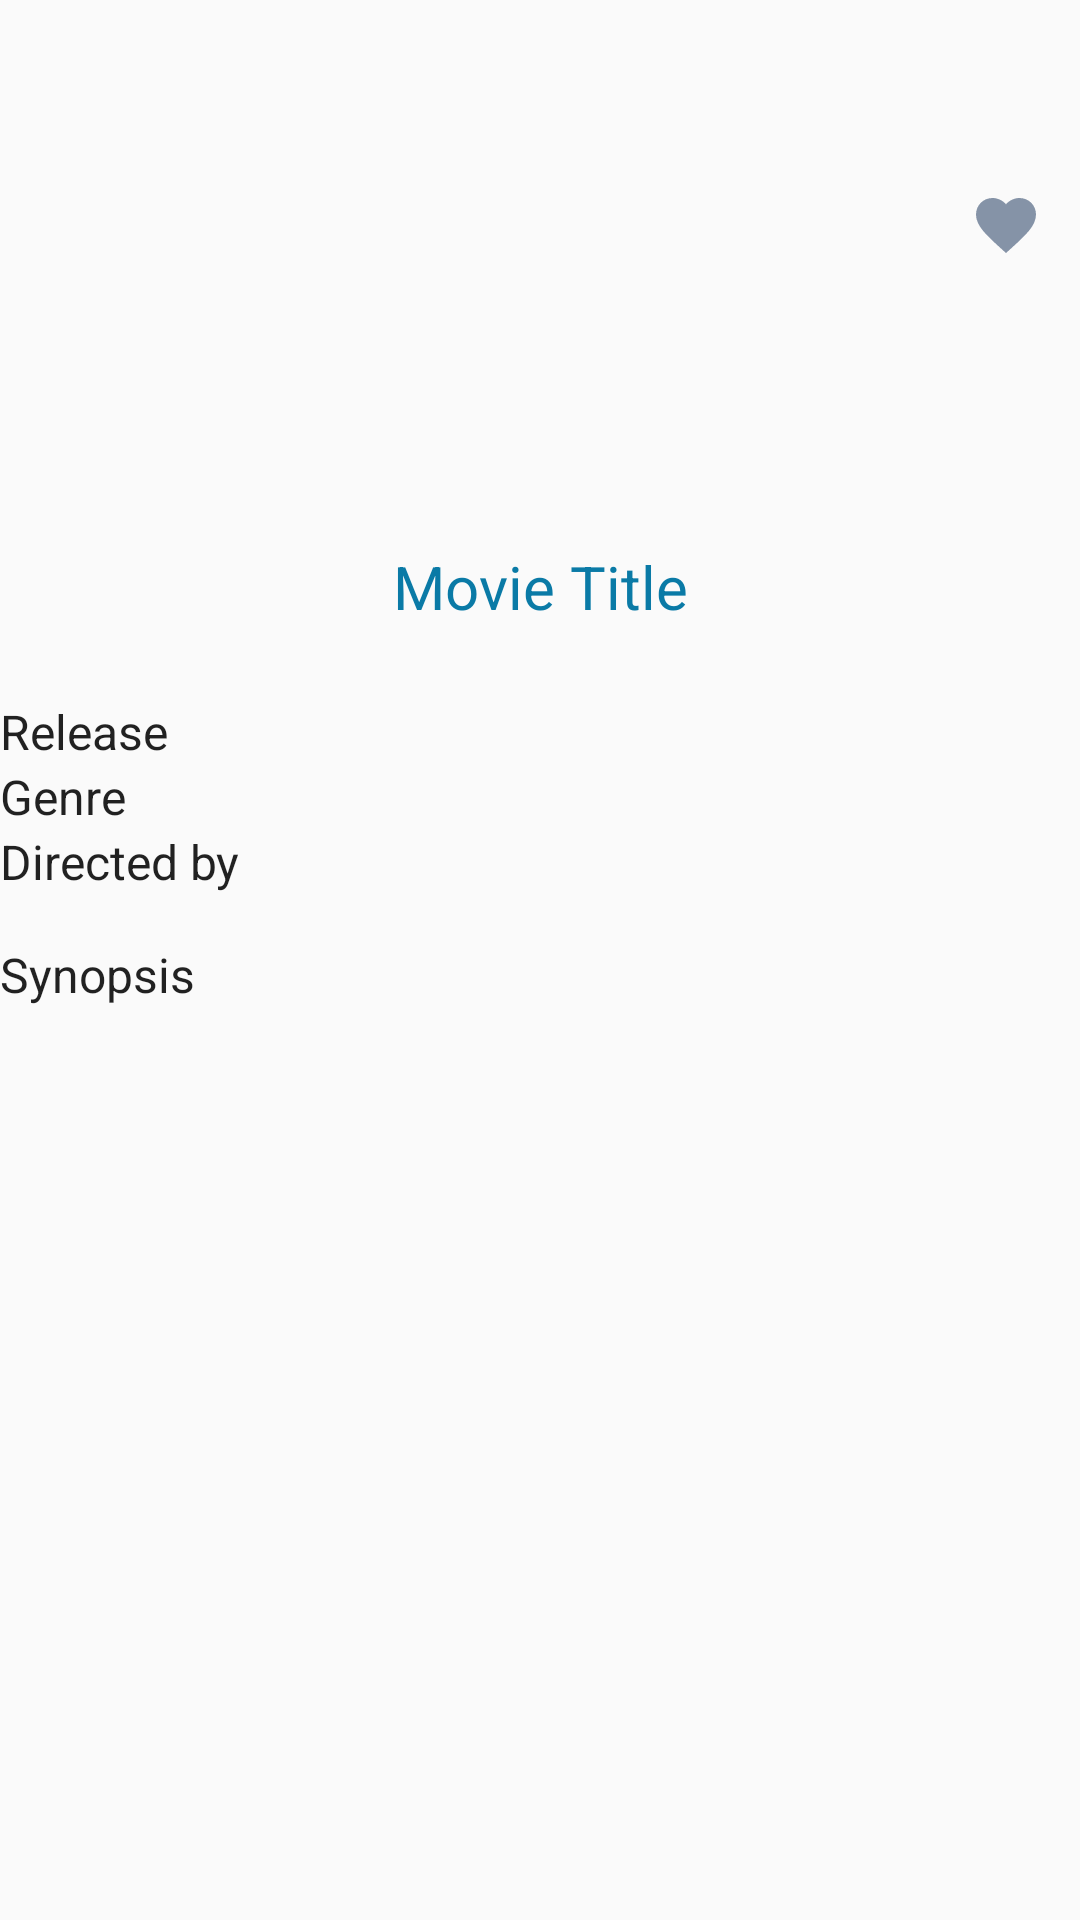

Screen size 1080px x 1920px. Icon name, then its center in pixels as (x,y):
favorite: (1006,225)
